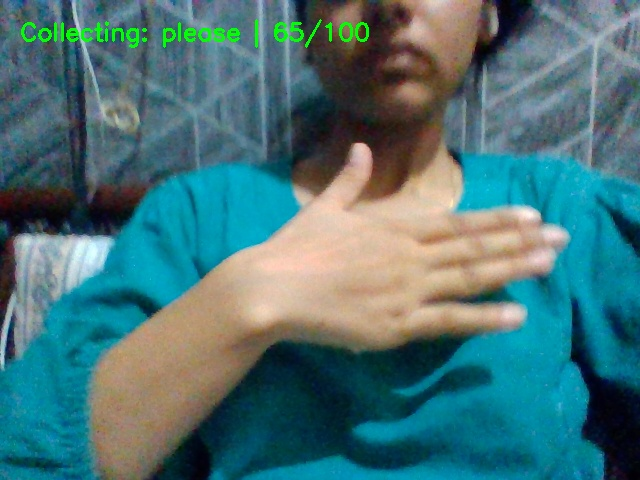please: (213, 128, 592, 378)
